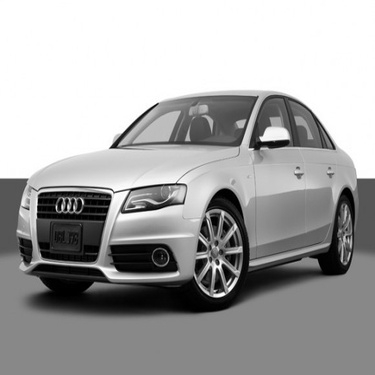car: (6, 83, 363, 315)
